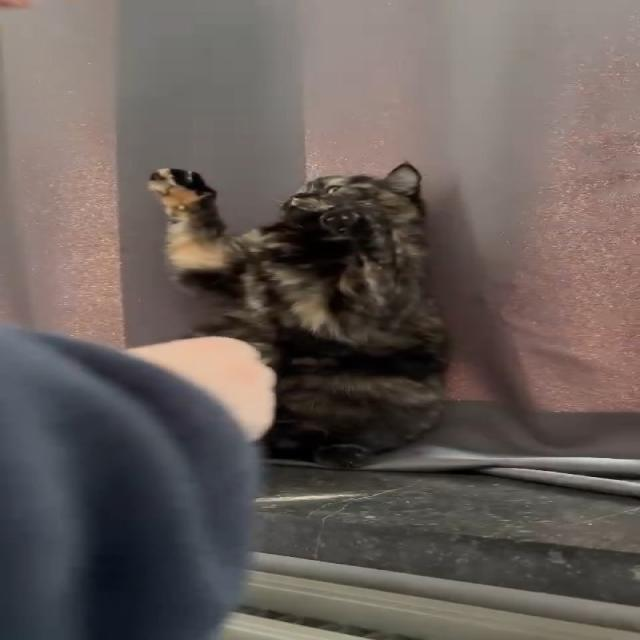authorized: (145, 160, 451, 469)
